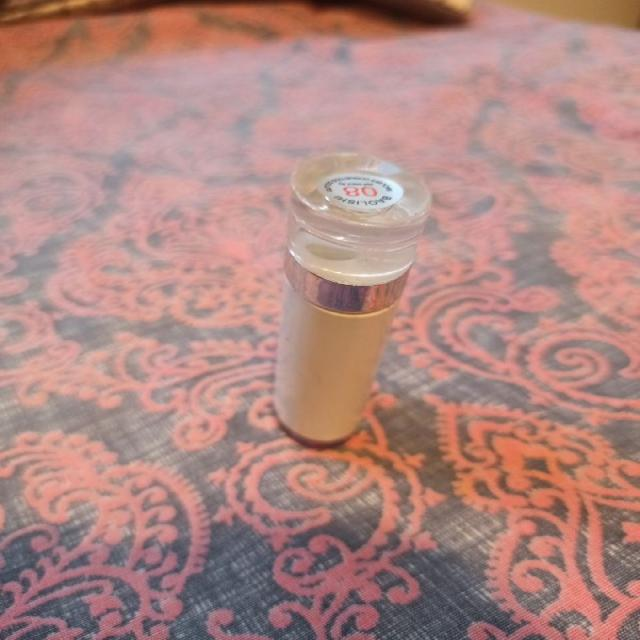lipstick: (272, 150, 432, 448)
